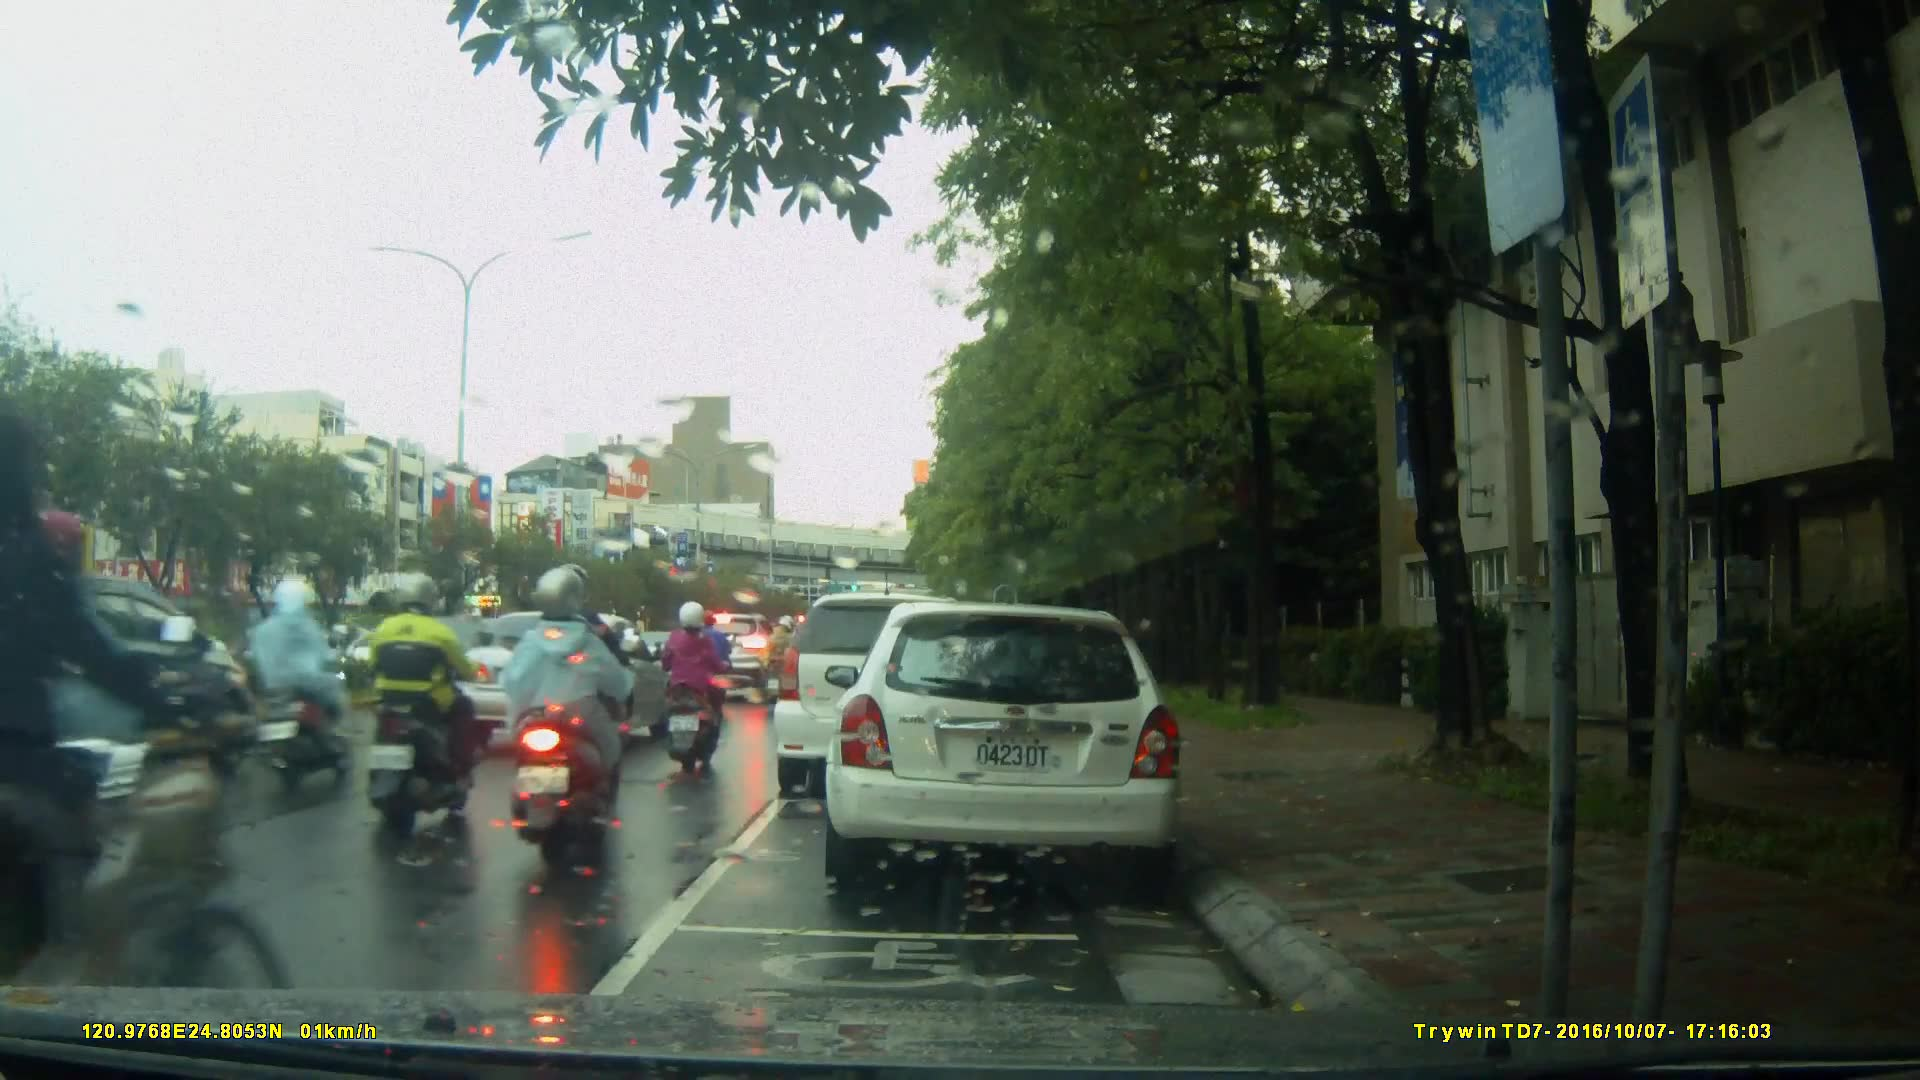rider: (508, 565, 628, 872), (366, 568, 495, 832), (245, 573, 357, 798), (533, 566, 629, 807), (659, 602, 725, 780), (758, 614, 812, 714), (694, 610, 731, 702)
vehicle: (822, 604, 1188, 883), (774, 595, 995, 802), (455, 610, 673, 753), (679, 613, 788, 703)
